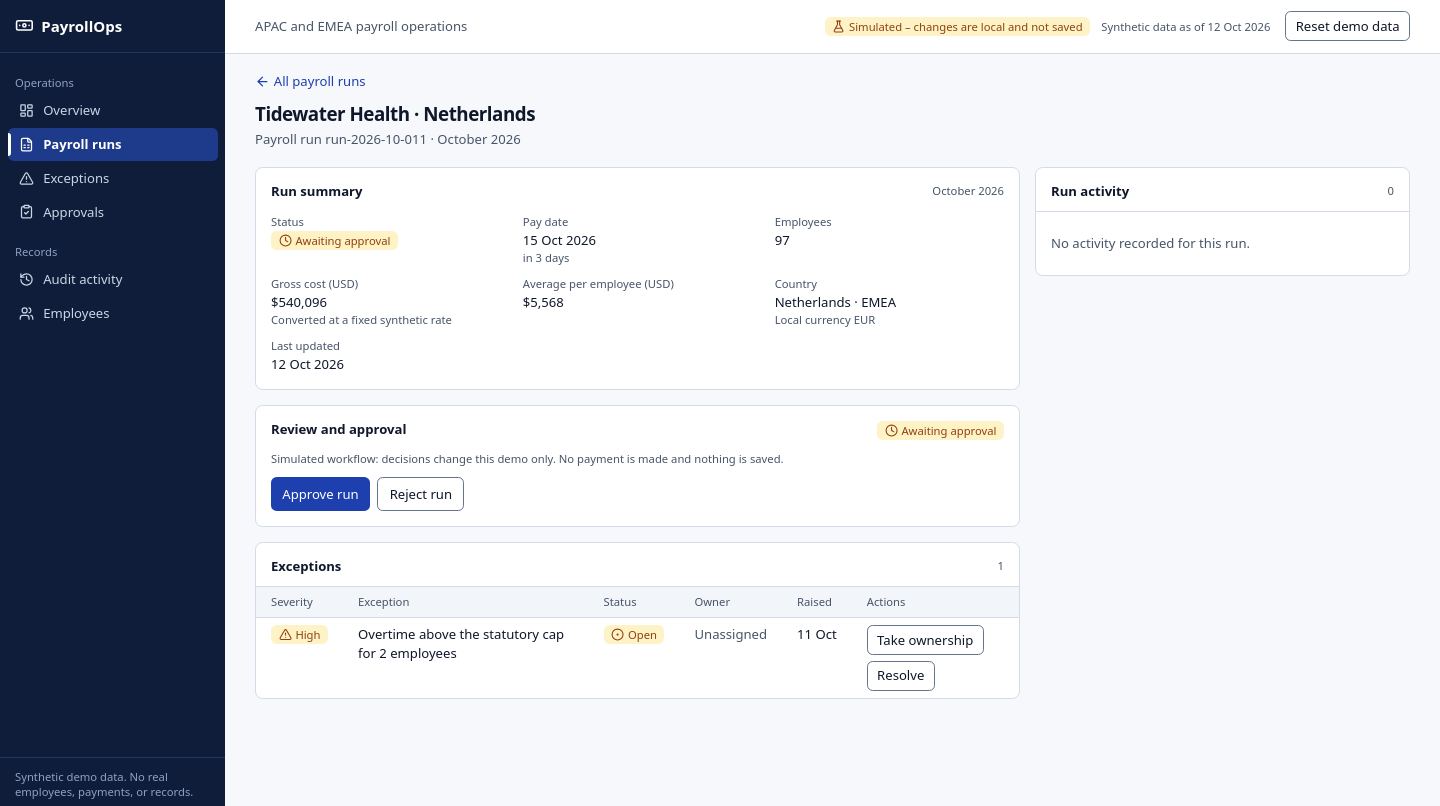
Audit activity page › shows an approval, an exception being taken, and its resolution, each once, in order
Click the button with aria-label "Take ownership: Overtime above".
click(925, 640)  # box [867,625,984,655]
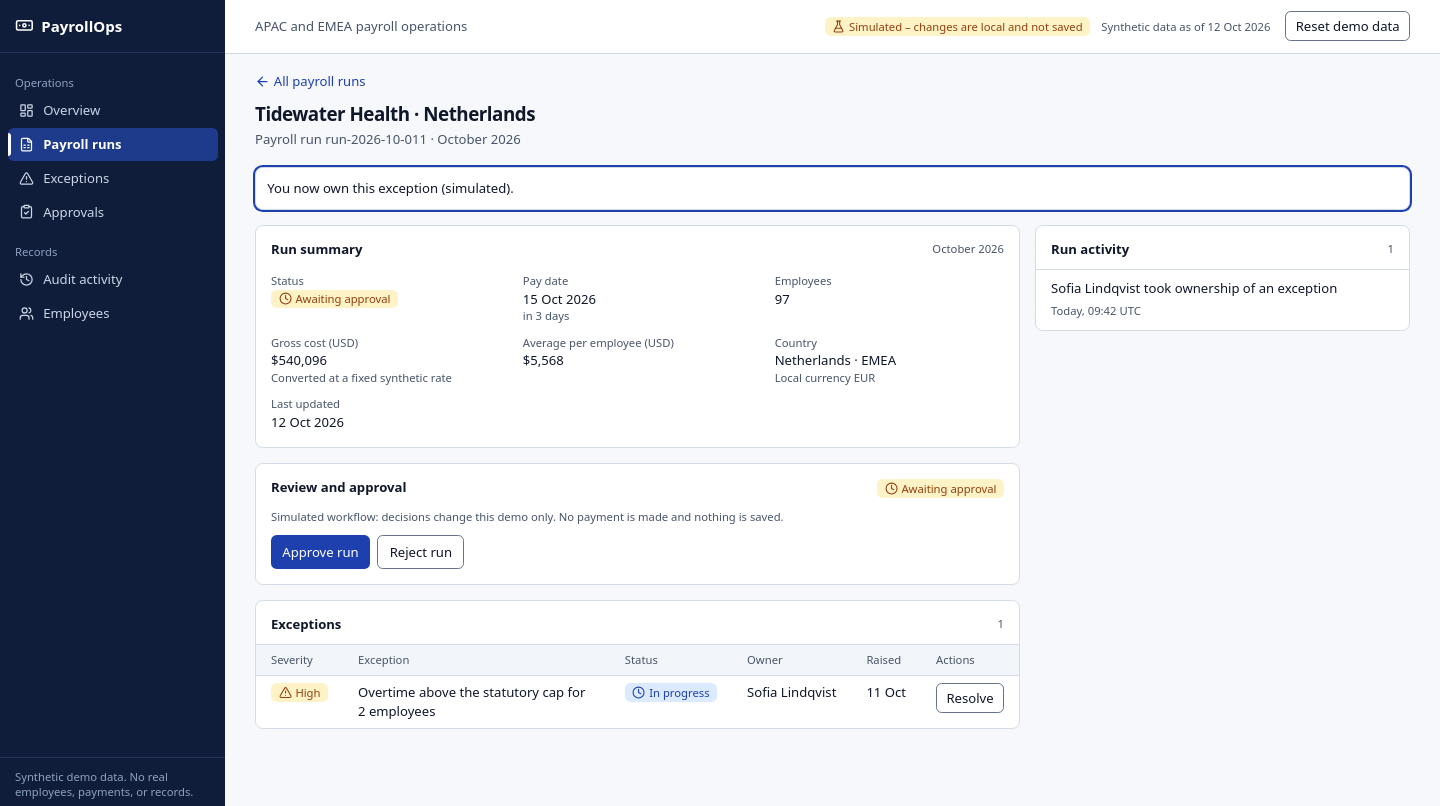
Click the button with aria-label "Resolve: Overtime above".
click(970, 698)  # box [936,683,1004,713]
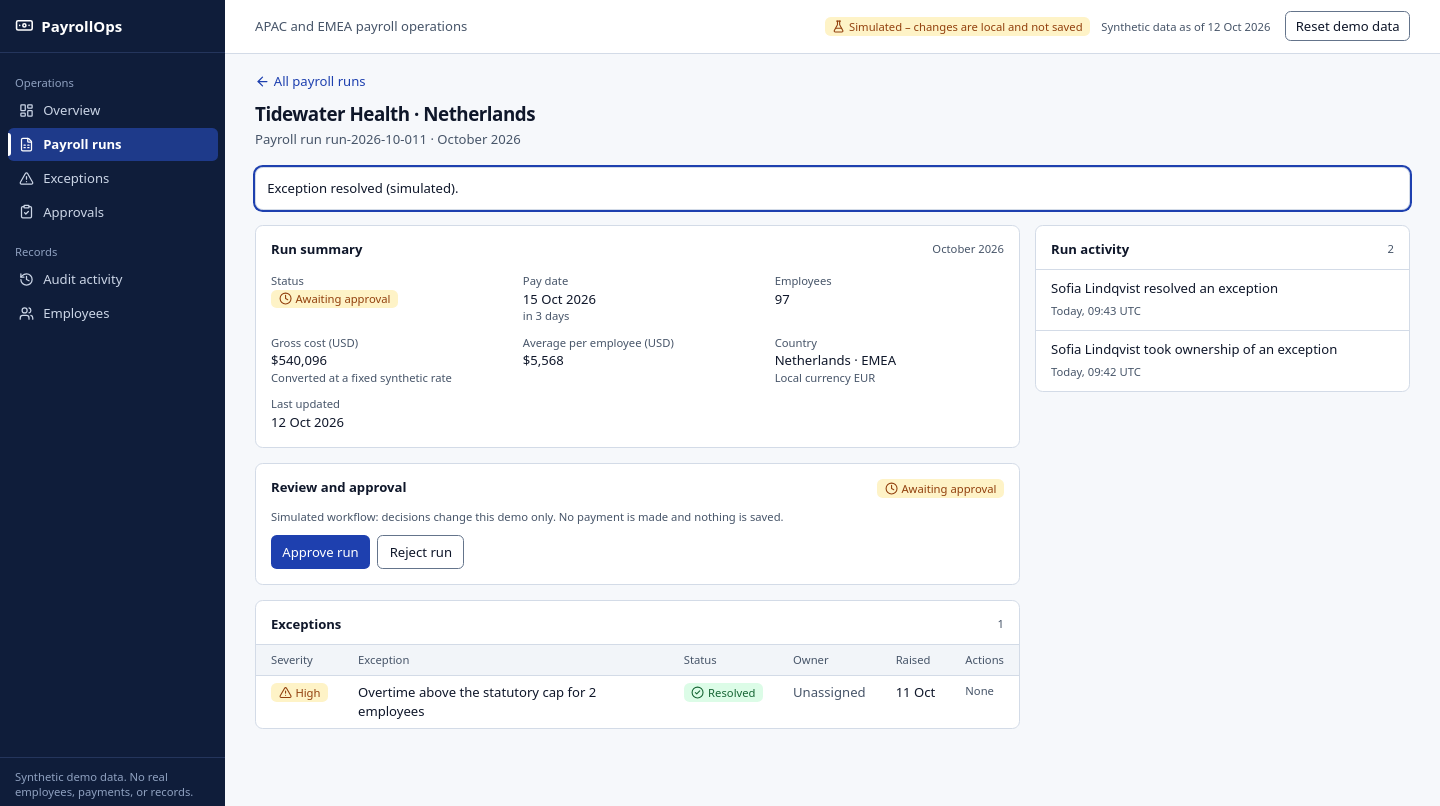
Click the button "Approve run".
click(320, 552)  # box [271,535,370,569]
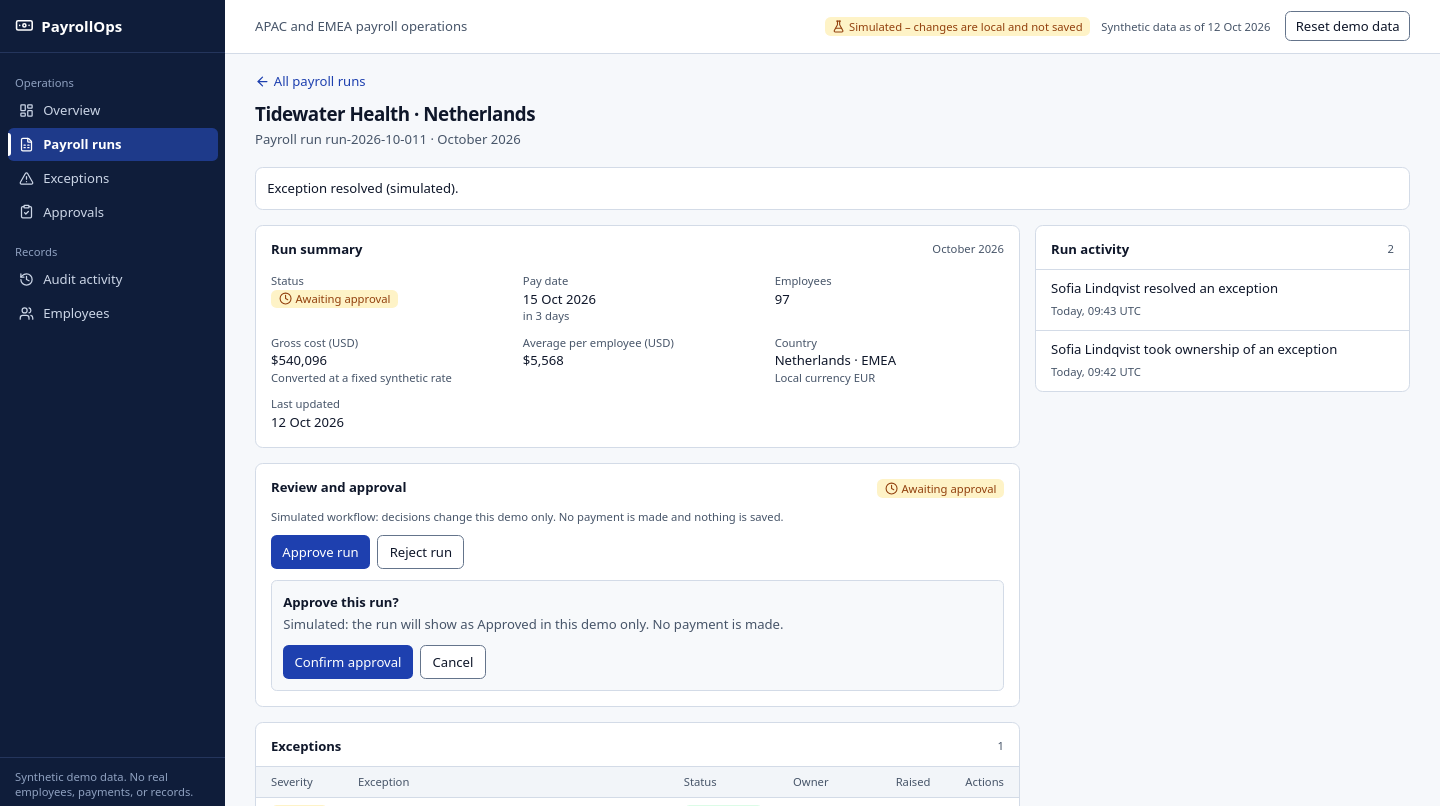
Click the button "Confirm approval".
click(348, 662)  # box [283,645,413,679]
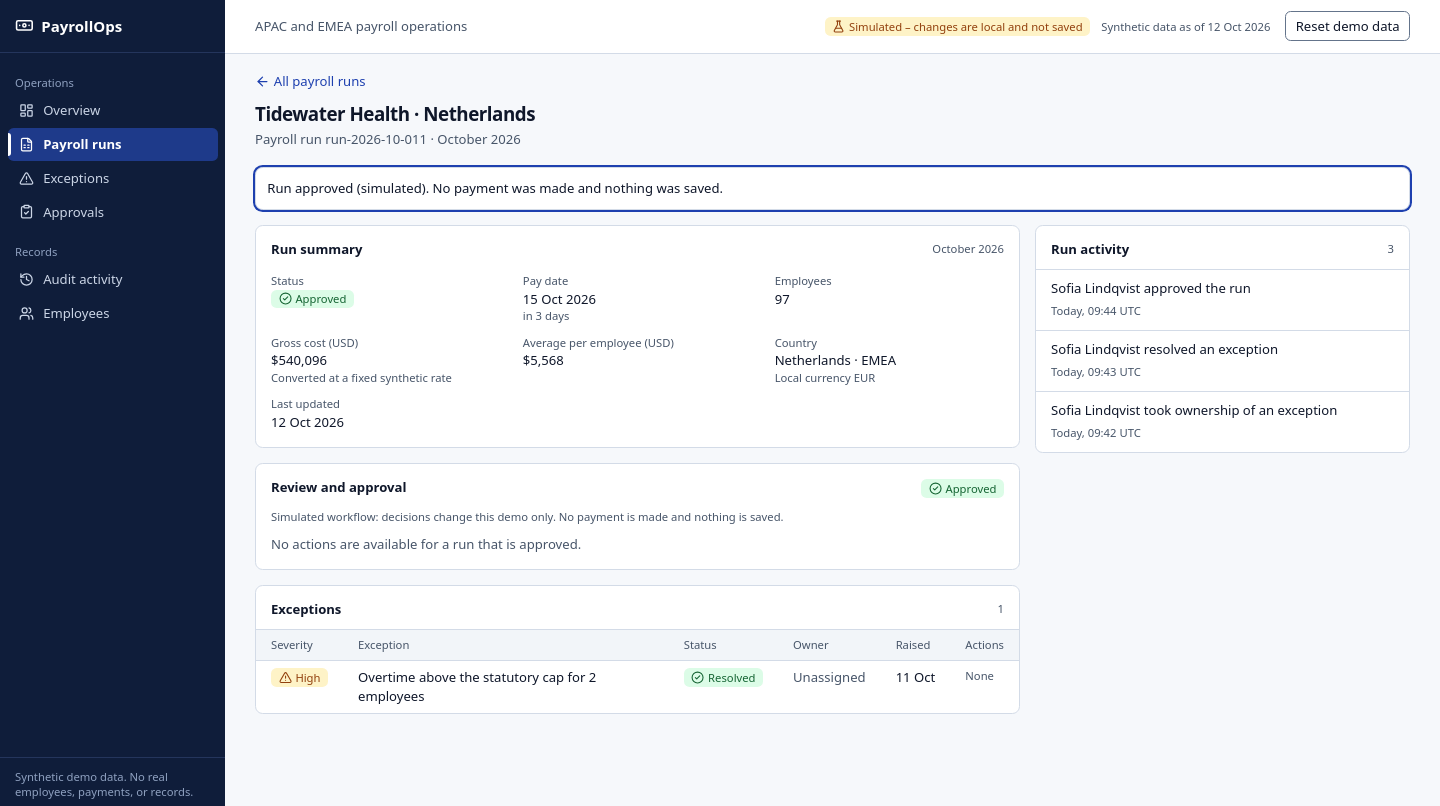
Click the link "Audit activity".
click(71, 279)  # box [19,270,122,288]
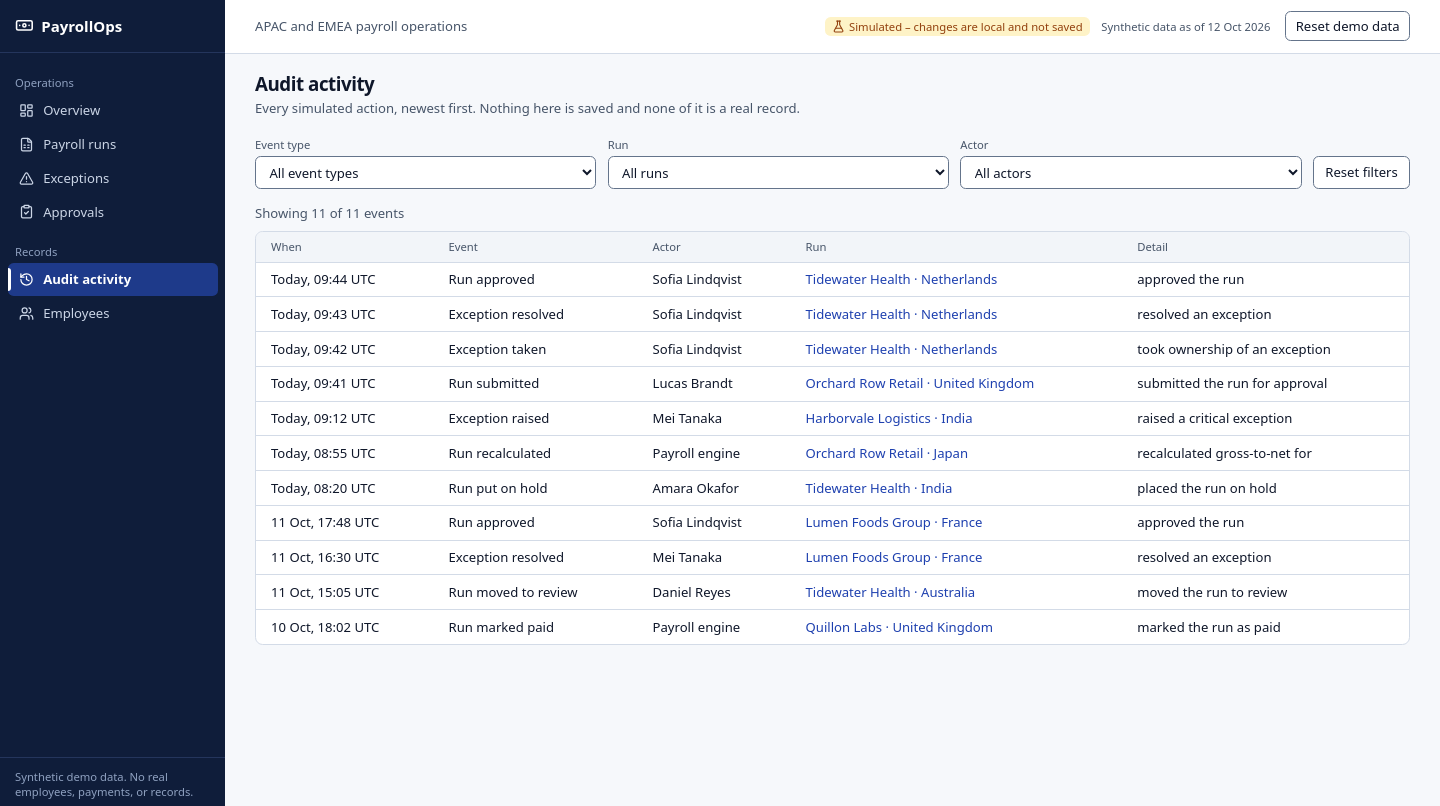
Result: the text "Showing 11 of 11 events" is shown at [255,204,404,222]
